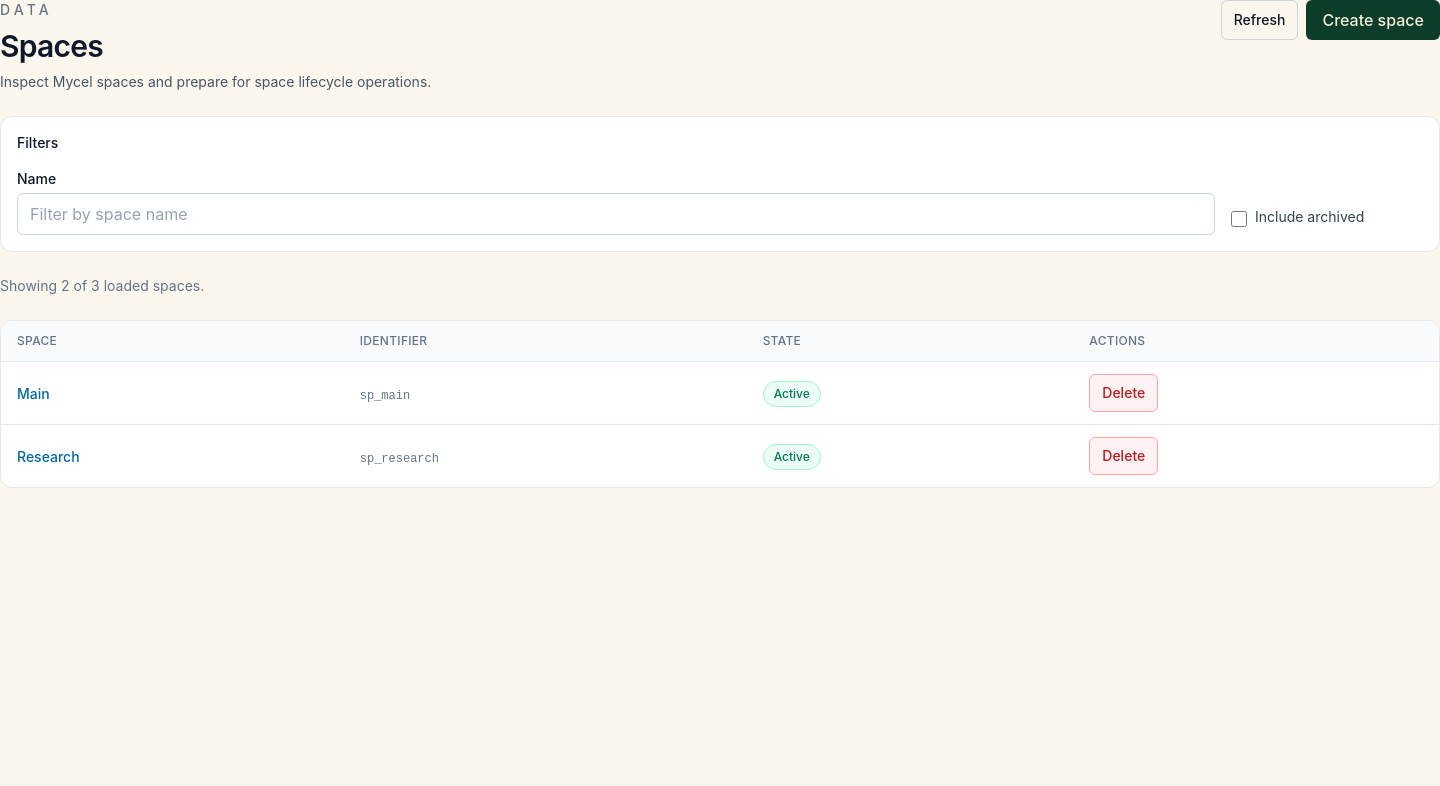
Test: surfaces principal catalog failure and supports explicit manual fallback
This screenshot has width=1440, height=786.
Expected: the link "Main" is shown, [17,385,50,402]
What coordinates should you click on to do the following:
click the button "Create space"
I would click on:
 (1373, 20)
Its box is [1306,0,1439,40].
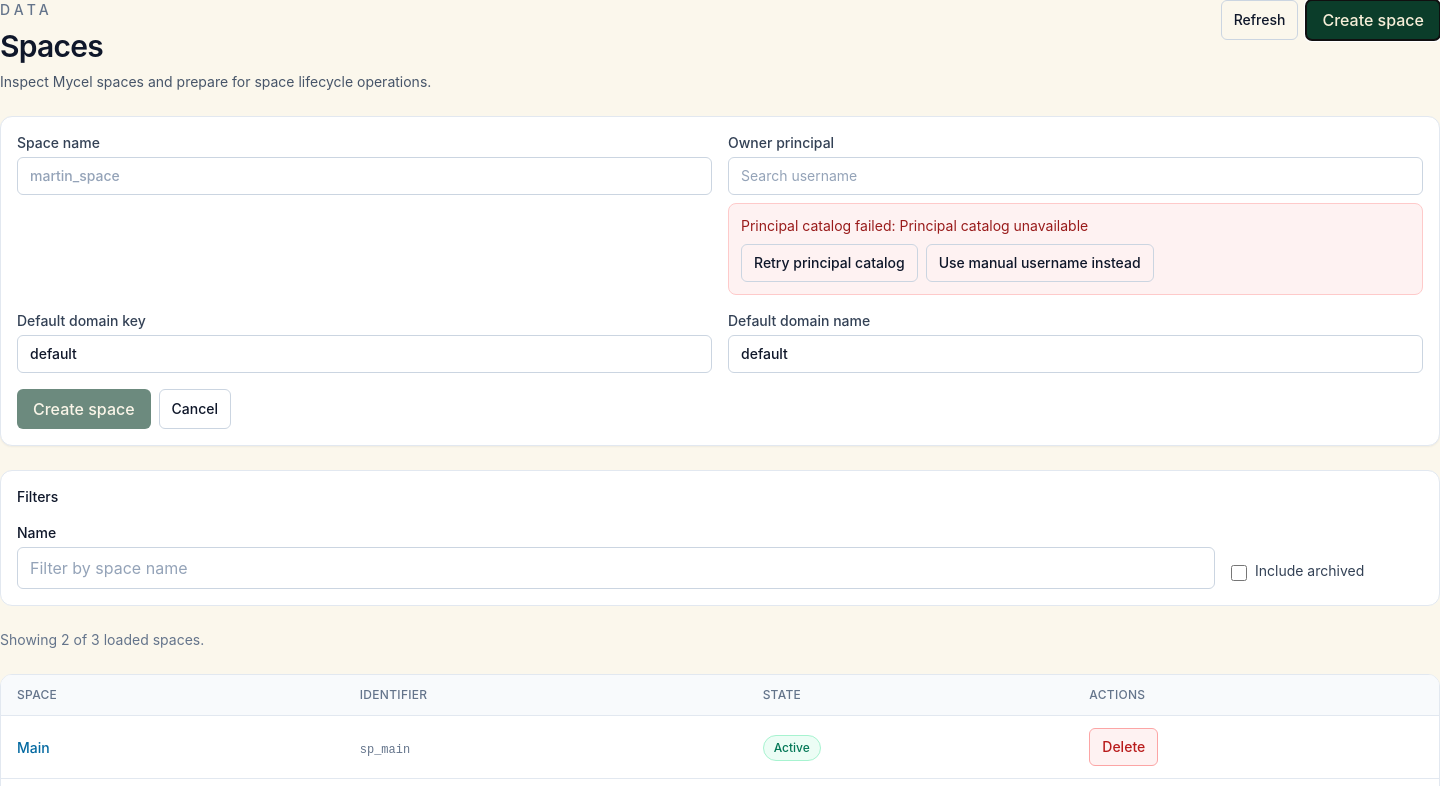
Result: the message shows "Principal catalog failed: Principal catalog unavailable" at [728,203,1423,295]
What coordinates should you click on to do the following:
click the button "Use manual username instead"
I would click on:
 (1040, 263)
Its box is [926,244,1154,282].
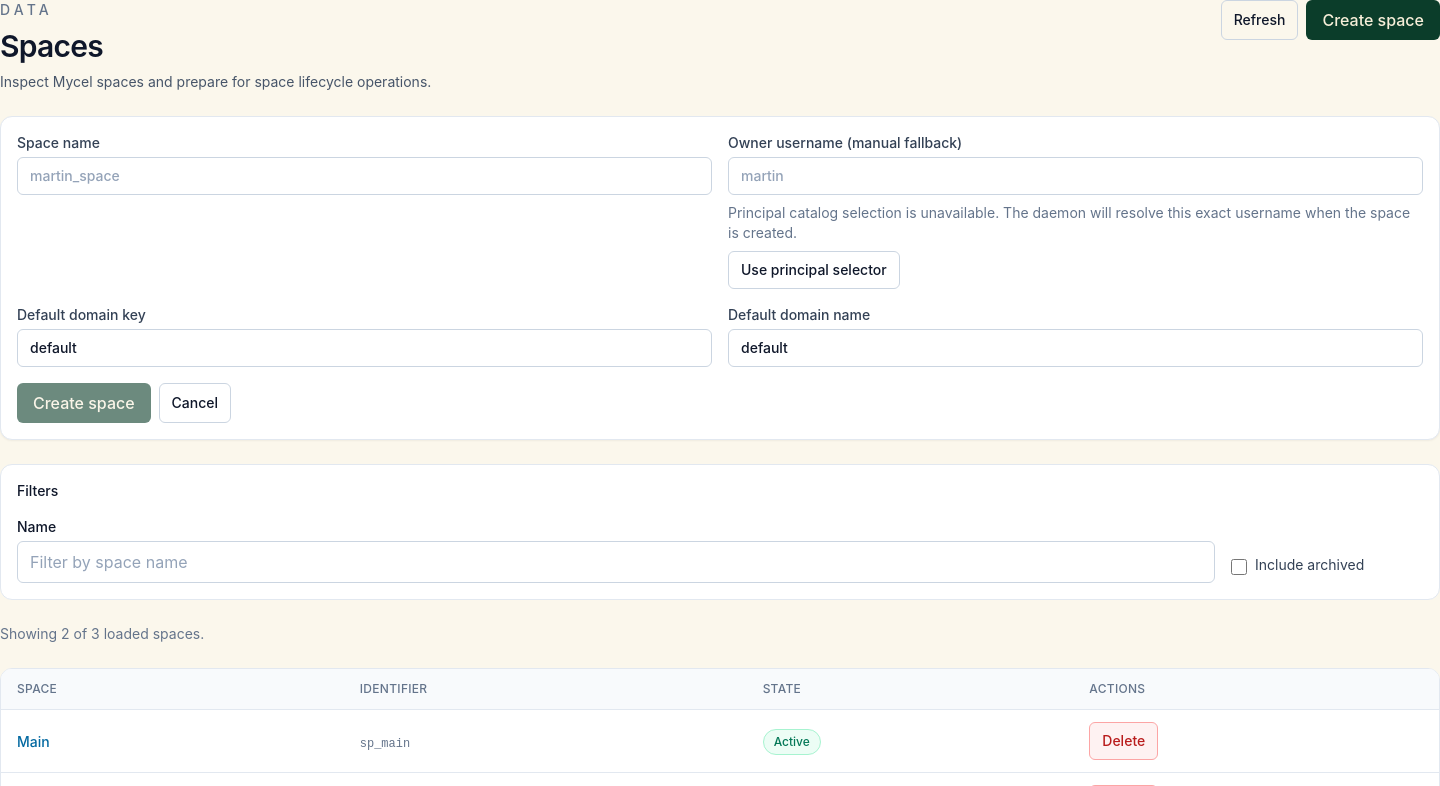
Result: the field labelled "Owner username (manual fallback)" is shown at [728,157,1423,195]
